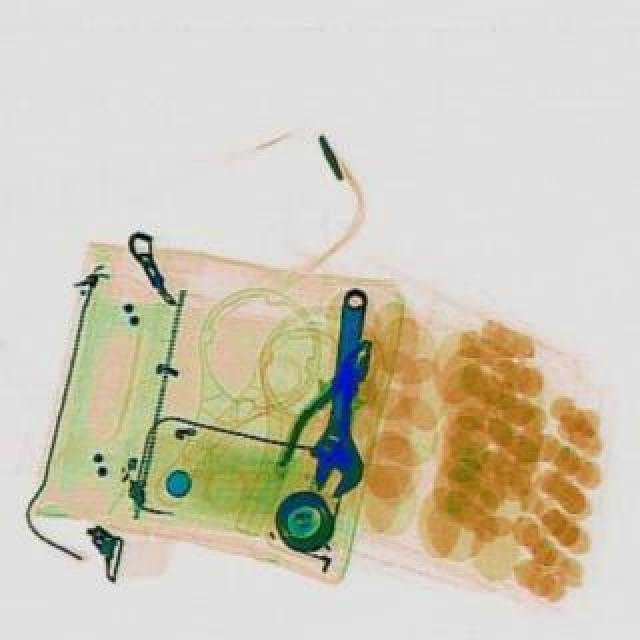scissors: (306, 284, 382, 502)
wrench: (274, 326, 398, 484)
